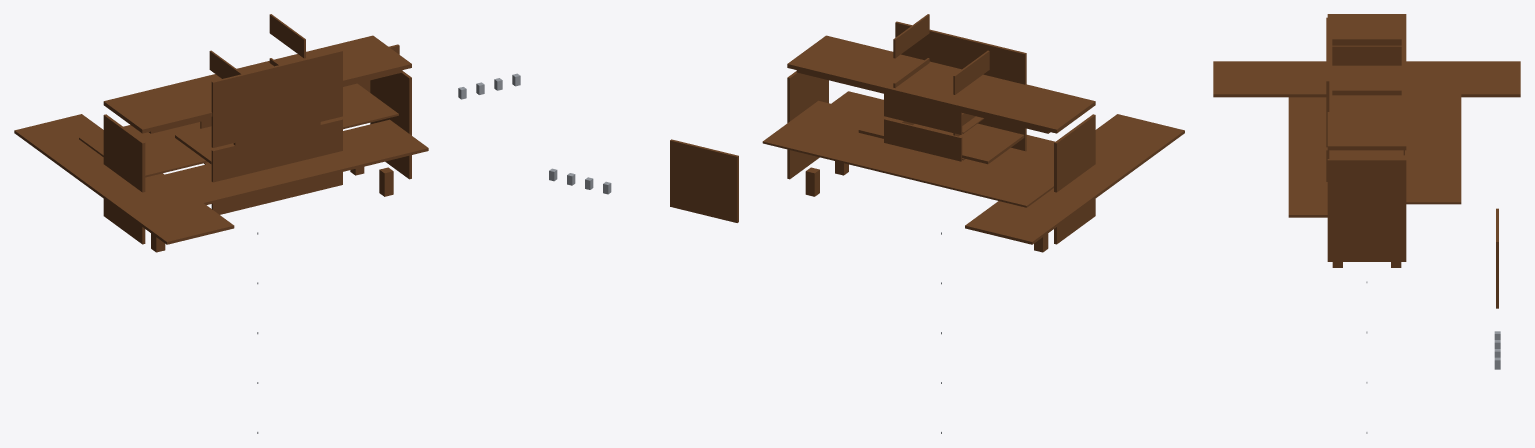
Rendered from Oakley_sideboard.obj.
3 renders of one model, left to right at view 1: azimuth 30°, elevation 25°; view 2: azimuth 150°, elevation 25°; view 3: azimuth 270°, elevation 25°, orthographic.
Visible parts, largest first — view 1: carcass.bottom, door_2, shelf.drawer, top, door_1, carcass.back, carcass.side_1, divider.drawer_2, carcass.side_2, shelf.adjustable_1, drawer.front_3, divider.drawer_1 (+4 smaller); view 2: carcass.back, top, carcass.bottom, divider.centre, door_2, carcass.side_1, shelf.adjustable_1, shelf.adjustable_2, carcass.side_2, drawer.back_2, drawer.back_3, shelf.drawer (+3 smaller); view 3: top, carcass.side_2, carcass.back, carcass.bottom, shelf.drawer, shelf.adjustable_1, drawer.side_6, shelf.adjustable_2, drawer.side_5, door_2, drawer.side_4, divider.centre.
Part boxes in pixels (x1,y1,x2,y2): carcass.bottom: (14,114,234,244); door_2: (211,50,342,147); shelf.drawer: (165,119,428,204); top: (103,35,411,133); door_1: (211,118,342,214); carcass.back: (79,83,398,177); carcass.side_1: (103,114,145,244); divider.drawer_2: (244,113,311,158); carcass.side_2: (370,71,411,179); shelf.adjustable_1: (176,55,309,111); drawer.front_3: (235,81,320,129); divider.drawer_1: (244,145,311,174); carcass.back: (762,100,1053,207); top: (787,35,1095,133); carcass.bottom: (965,114,1184,244); divider.centre: (670,139,738,222); door_2: (895,21,1026,84); carcass.side_1: (1054,114,1095,244); shelf.adjustable_1: (859,55,1022,111); shelf.adjustable_2: (858,111,1024,164); carcass.side_2: (787,71,828,179); drawer.back_2: (884,118,962,161); drawer.back_3: (884,92,962,134); shelf.drawer: (831,91,1054,157); top: (1327,14,1406,150); carcass.side_2: (1327,159,1406,261); carcass.back: (1403,72,1461,204); carcass.bottom: (1213,61,1520,97); shelf.drawer: (1288,97,1330,217); shelf.adjustable_1: (1330,48,1403,111); drawer.side_6: (1332,45,1401,65); shelf.adjustable_2: (1330,150,1403,158); drawer.side_5: (1332,38,1401,45); door_2: (1326,17,1329,147); drawer.side_4: (1332,90,1401,95); divider.centre: (1496,208,1498,308).
Size of the model in its own units: 3.29 by 2.55 by 1.76.
